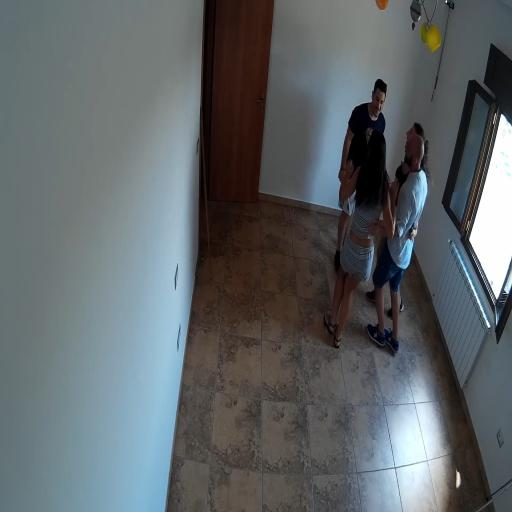nao-violencia: (323, 43, 434, 368)
